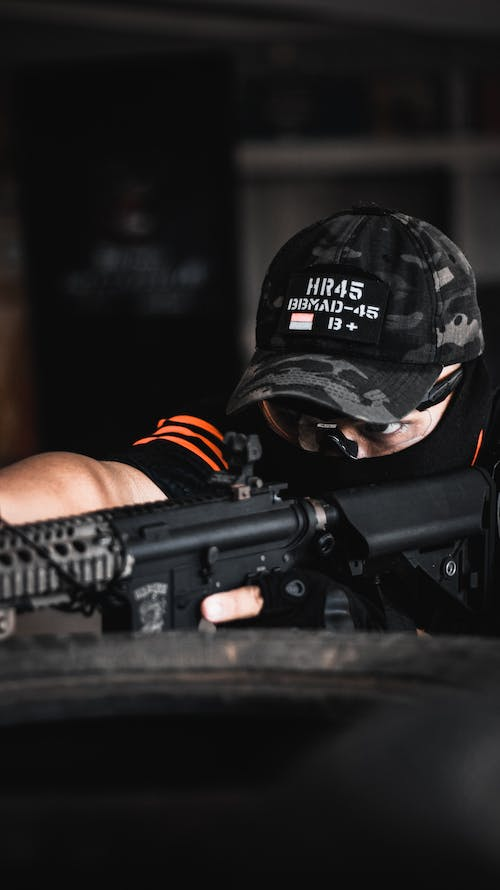gun: (0, 426, 500, 638)
